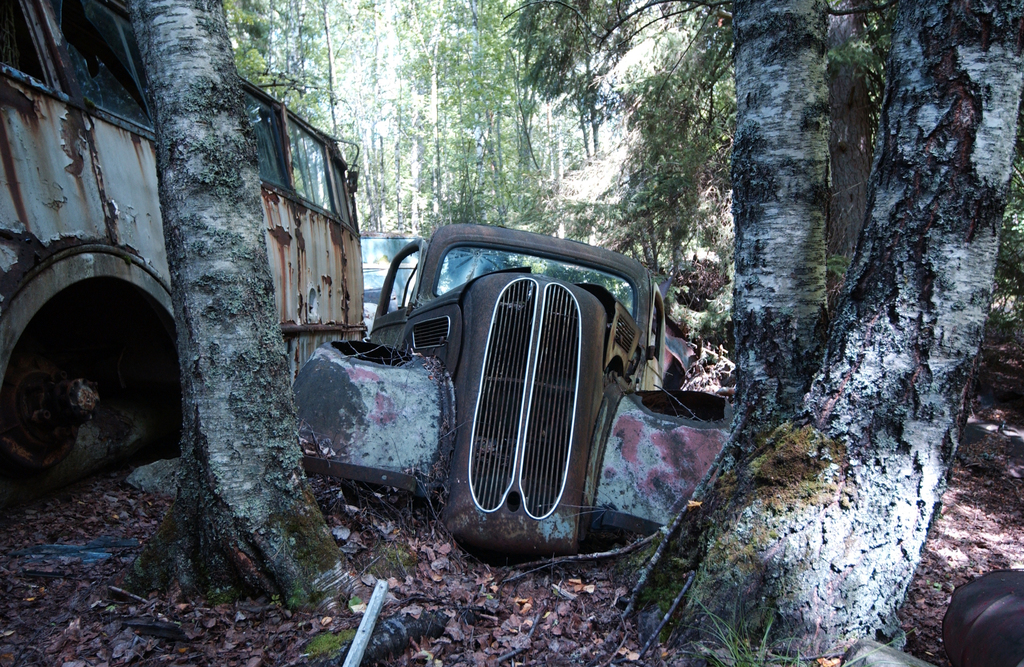Car: (288, 221, 737, 567), (357, 230, 428, 336)
